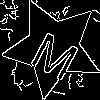M: (28, 23, 86, 82)
